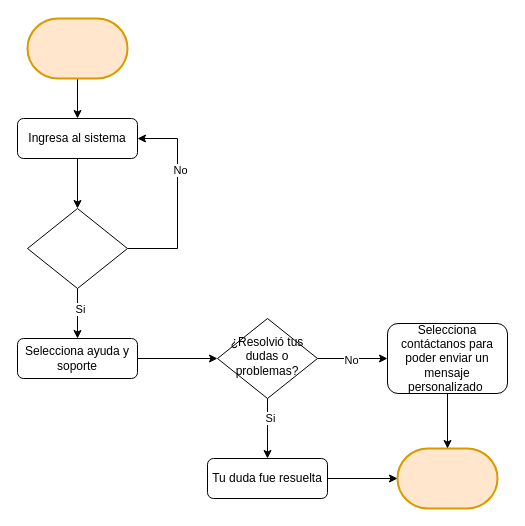
This 525x526 diagram has some shape labels left out. The shapes that lost their labels are listed below. From the top down, each one's box as (x1, y1, x2, y2) in pixels, then its label:
(26, 17, 128, 79): Inicio
(26, 208, 128, 288): ¿Tienes alguna duda o problema?
(396, 447, 498, 509): Fin
